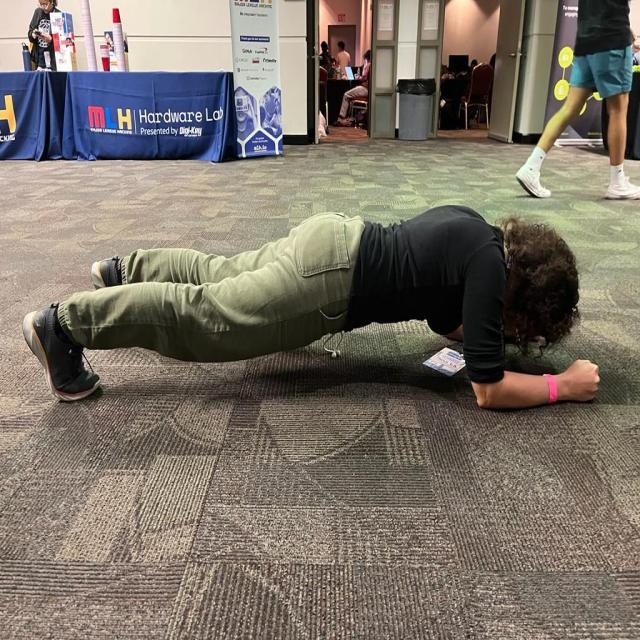plank: (16, 193, 606, 421)
